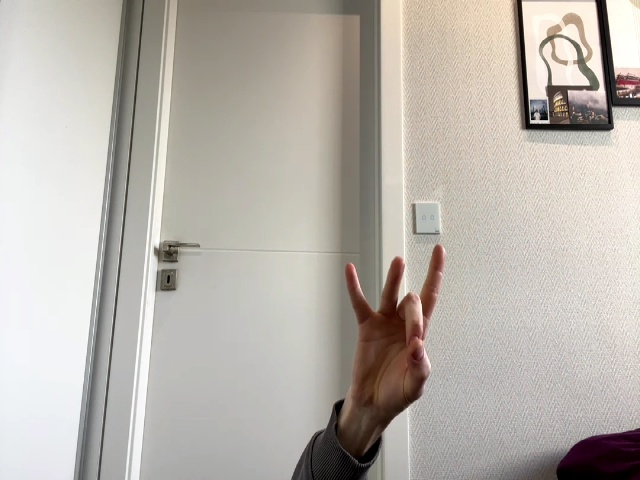G: (345, 244, 447, 411)
